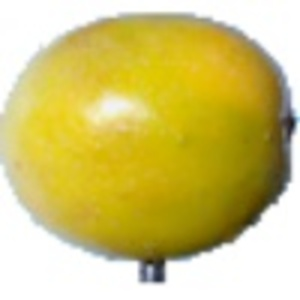maracujá: (1, 1, 300, 285)
